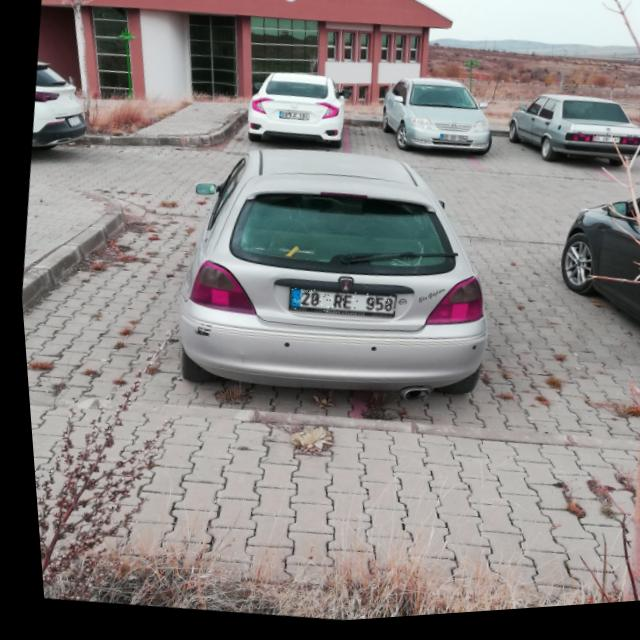license_plate: (283, 286, 392, 327), (277, 113, 306, 124), (590, 142, 618, 153), (437, 139, 466, 149)
